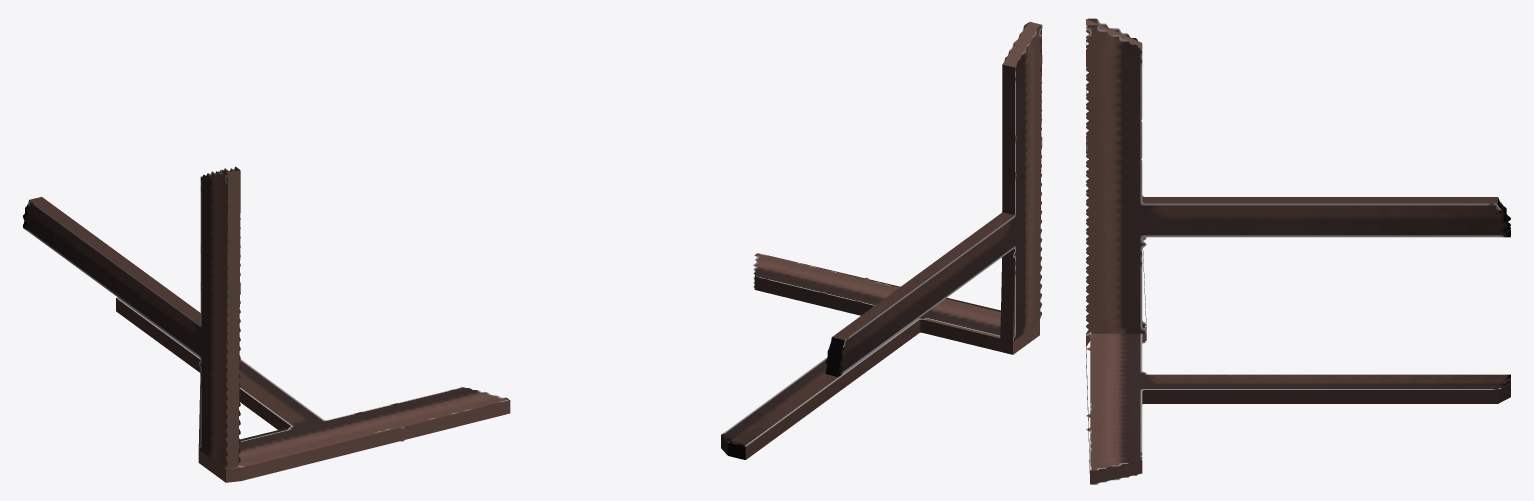
Rendered from pz_native_fixtures_railings_01_52_frame.obj.
The picture shows the model from 3 angles, left to right: view 1: azimuth 30°, elevation 25°; view 2: azimuth 150°, elevation 25°; view 3: azimuth 270°, elevation 25°; orthographic projection. The views are drawn at different scales.
Parts seen in each view (by area): view 1: pz_native_fixtures_railings_01_52_frame; view 2: pz_native_fixtures_railings_01_52_frame; view 3: pz_native_fixtures_railings_01_52_frame.
Boxes of the visible parts, x1,y1,x2,y2 form: pz_native_fixtures_railings_01_52_frame: [23, 166, 510, 482]; pz_native_fixtures_railings_01_52_frame: [721, 21, 1042, 459]; pz_native_fixtures_railings_01_52_frame: [1086, 18, 1510, 484].
Bounding box in the file's own units: 1.03 × 1.06 × 1.3.
Materials: 1 (1 with a texture image).
